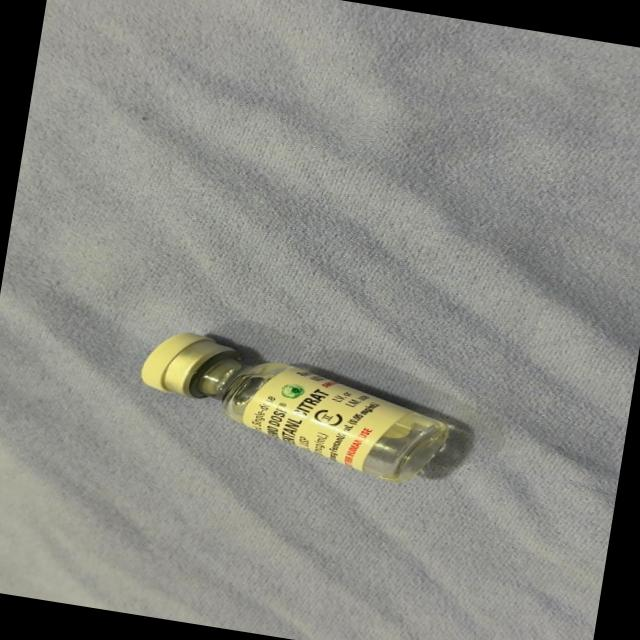fentanl_citrat: (136, 328, 458, 487)
